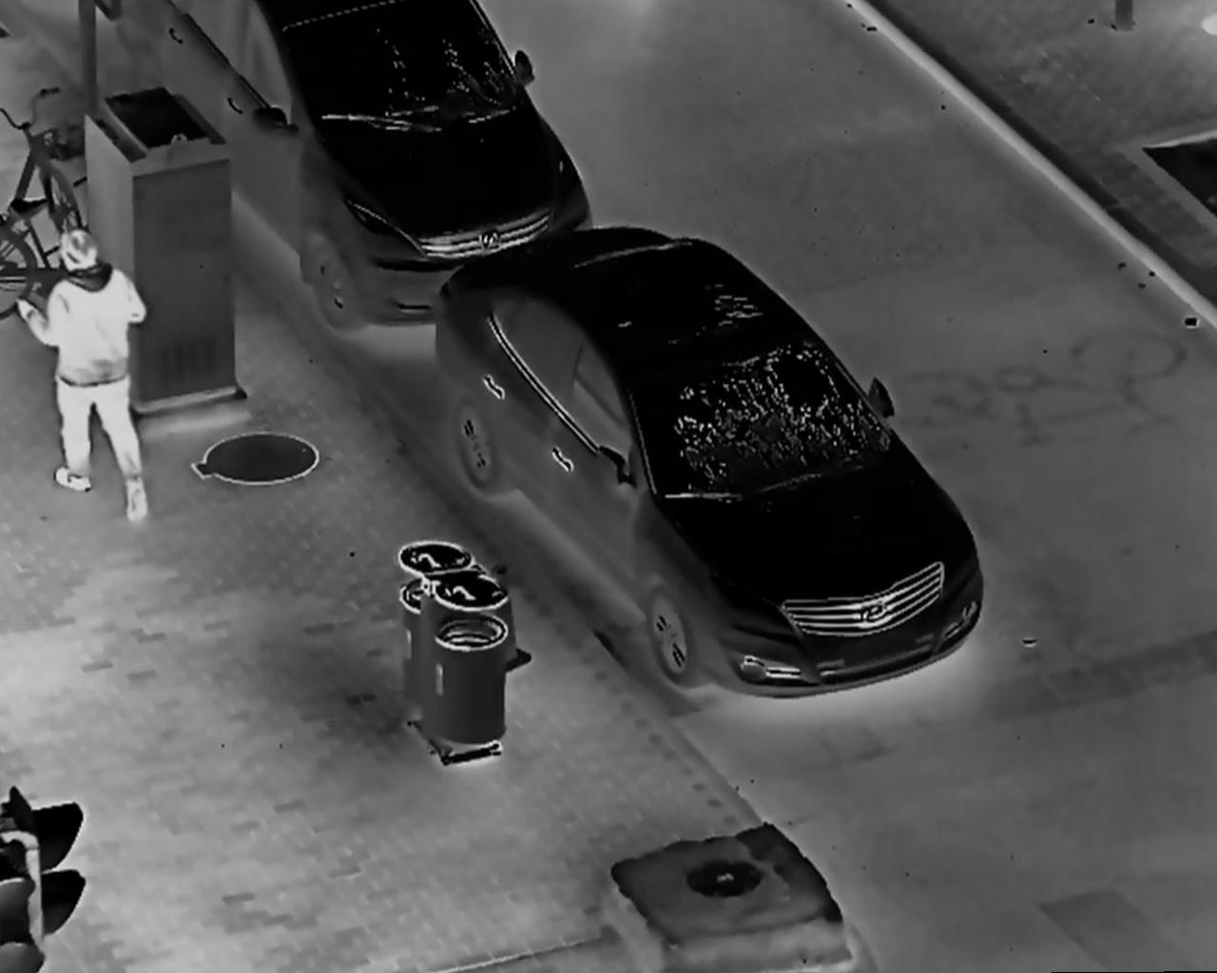person: (14, 216, 164, 530)
